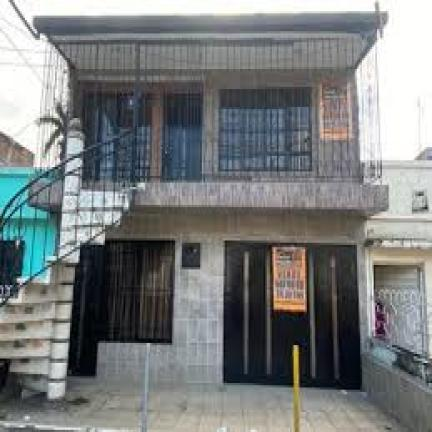casa: (35, 13, 387, 385)
